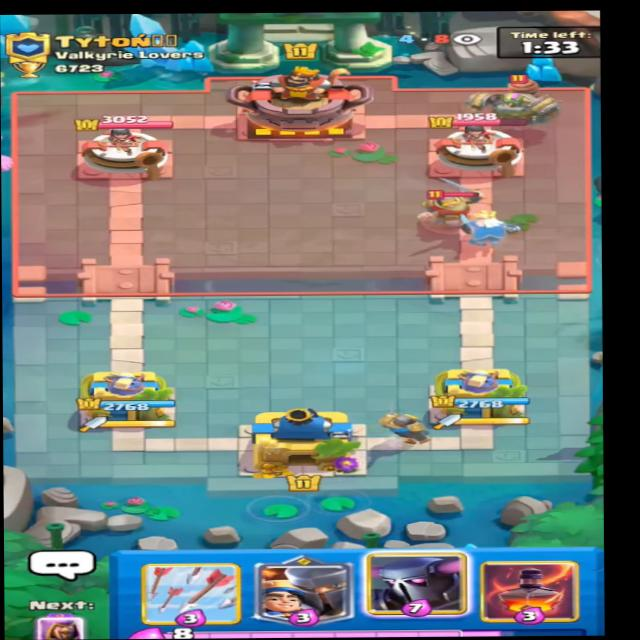goblin-machine: (466, 69, 560, 134)
knight: (413, 182, 498, 227)
